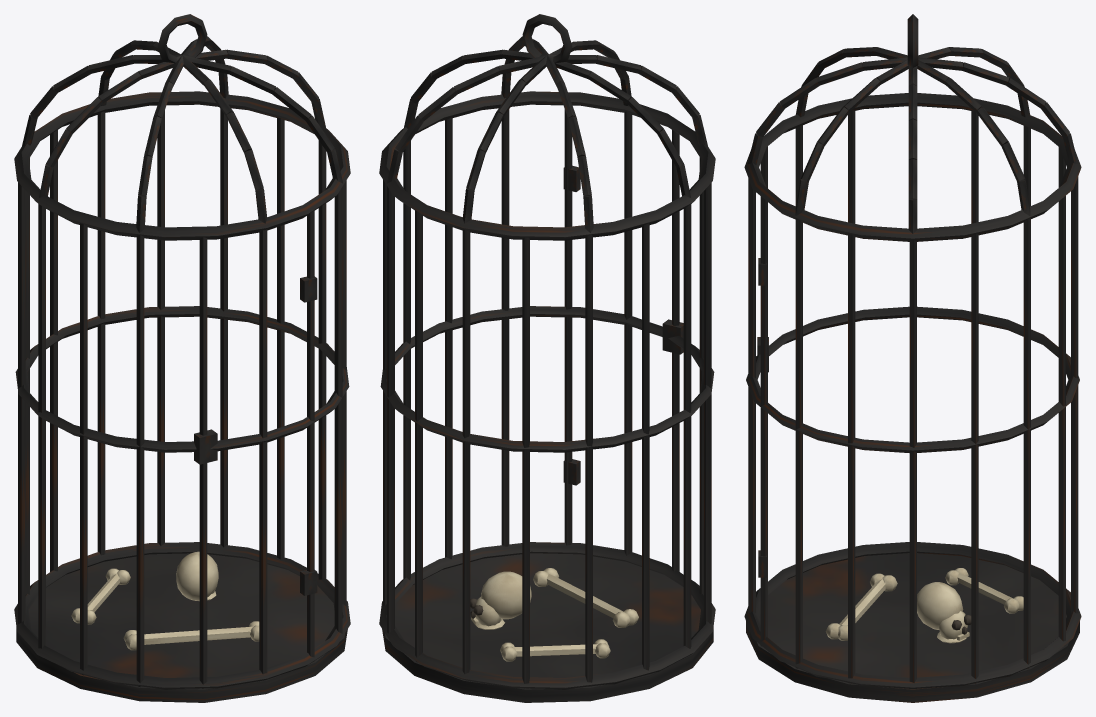
The model's file is iron_cage.glb.
The picture shows the model from 3 angles, left to right: view 1: azimuth 30°, elevation 25°; view 2: azimuth 150°, elevation 25°; view 3: azimuth 270°, elevation 25°; orthographic projection.
Visible parts, largest first — view 1: iron_cage; view 2: iron_cage; view 3: iron_cage.
Part boxes in pixels (x1,y1,x2,y2): iron_cage: (14,14,350,702); iron_cage: (379,14,715,702); iron_cage: (744,14,1081,702).
Bounding box in the file's own units: 1.15 × 2.31 × 1.15.
3 materials, 2 textured.
